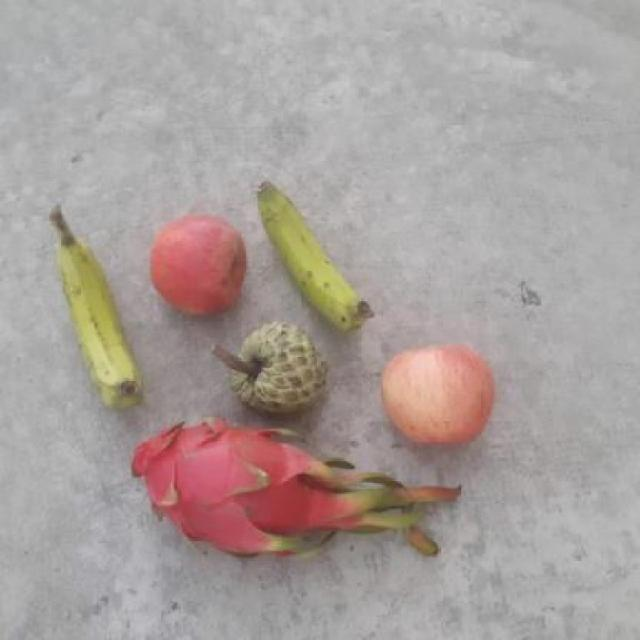apple: (379, 338, 499, 454), (143, 210, 254, 319)
banana: (252, 172, 376, 330), (54, 228, 148, 406)
dragon fruit: (132, 417, 322, 560)
sugar apple: (226, 314, 326, 421)
